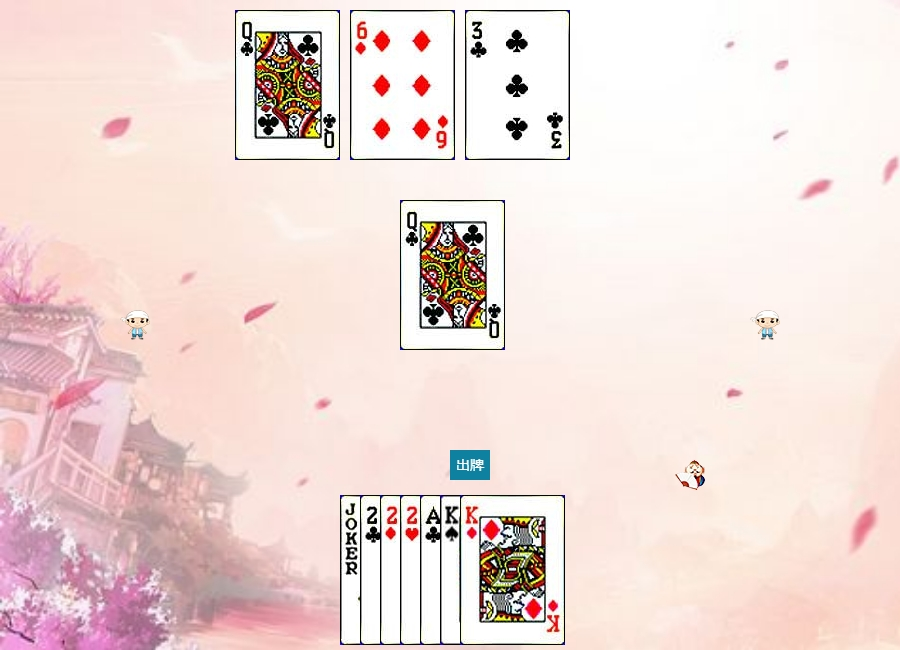12~2: (235, 10, 340, 160), (400, 200, 505, 350)
13~1: (460, 495, 565, 645)
13~4: (440, 495, 545, 645)
14~2: (420, 495, 525, 645)
15~1: (380, 495, 485, 645)
15~2: (360, 495, 465, 645)
15~3: (400, 495, 505, 645)
17~3: (340, 495, 445, 645)
3~2: (465, 10, 570, 160)
6~1: (350, 10, 455, 160)
